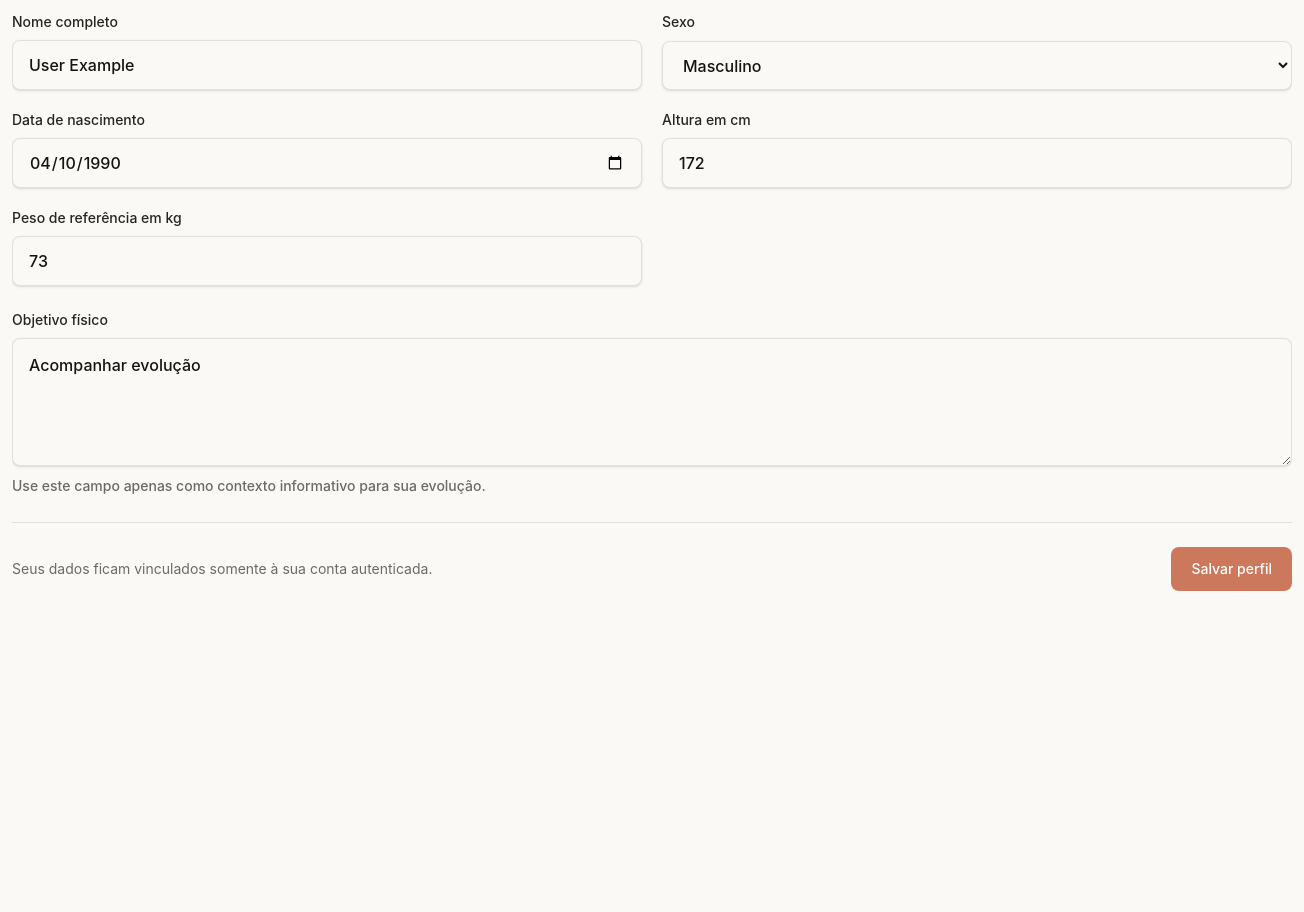
Test: ProfileForm › shows field errors with aria metadata after submit
The width and height of the screenshot is (1304, 912).
Click the button "Salvar perfil".
click(1232, 569)  # box [1171, 547, 1292, 591]
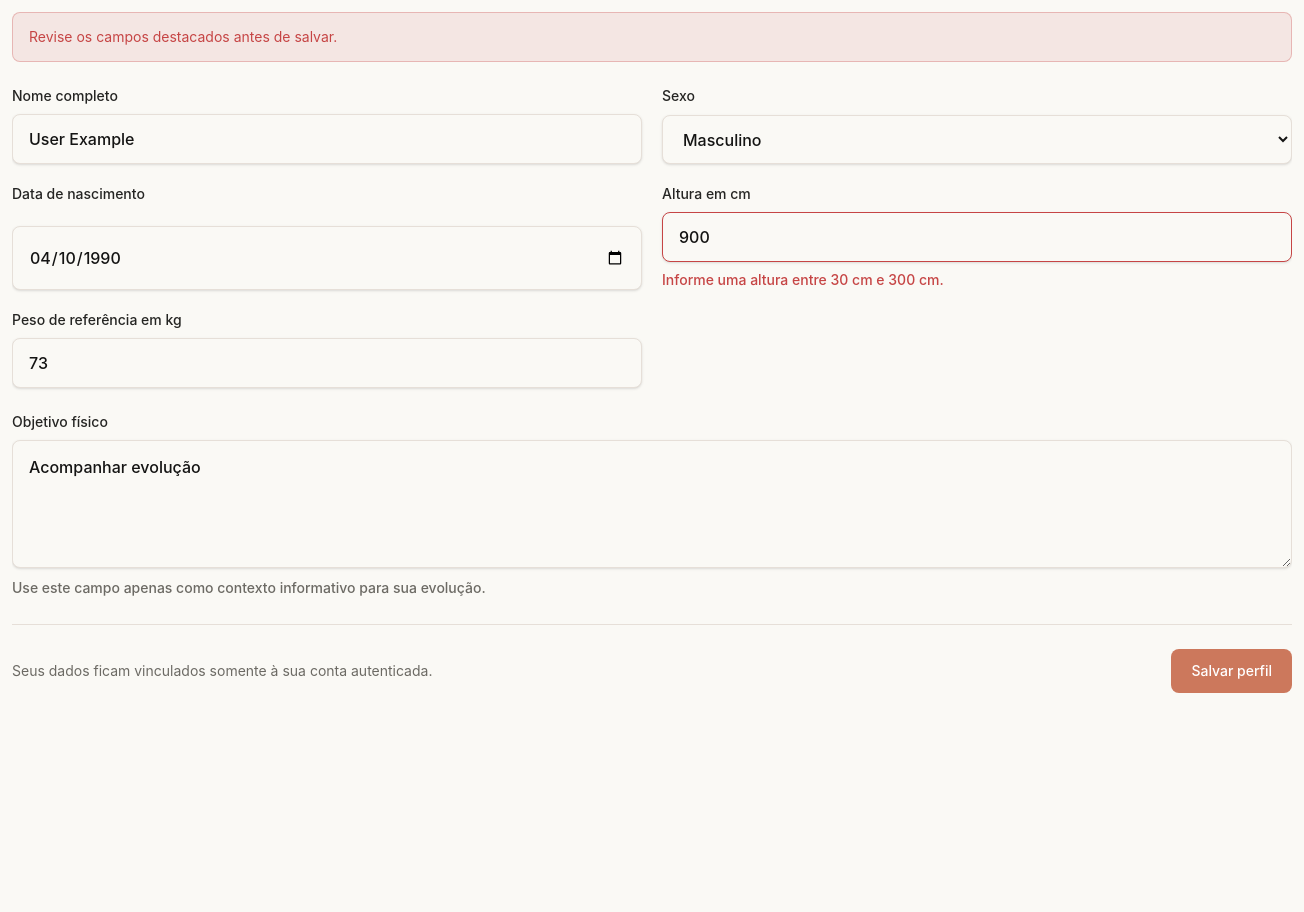
Expected: the text "Informe uma altura entre 30 cm e 300 cm." is shown, [662, 271, 944, 288]
